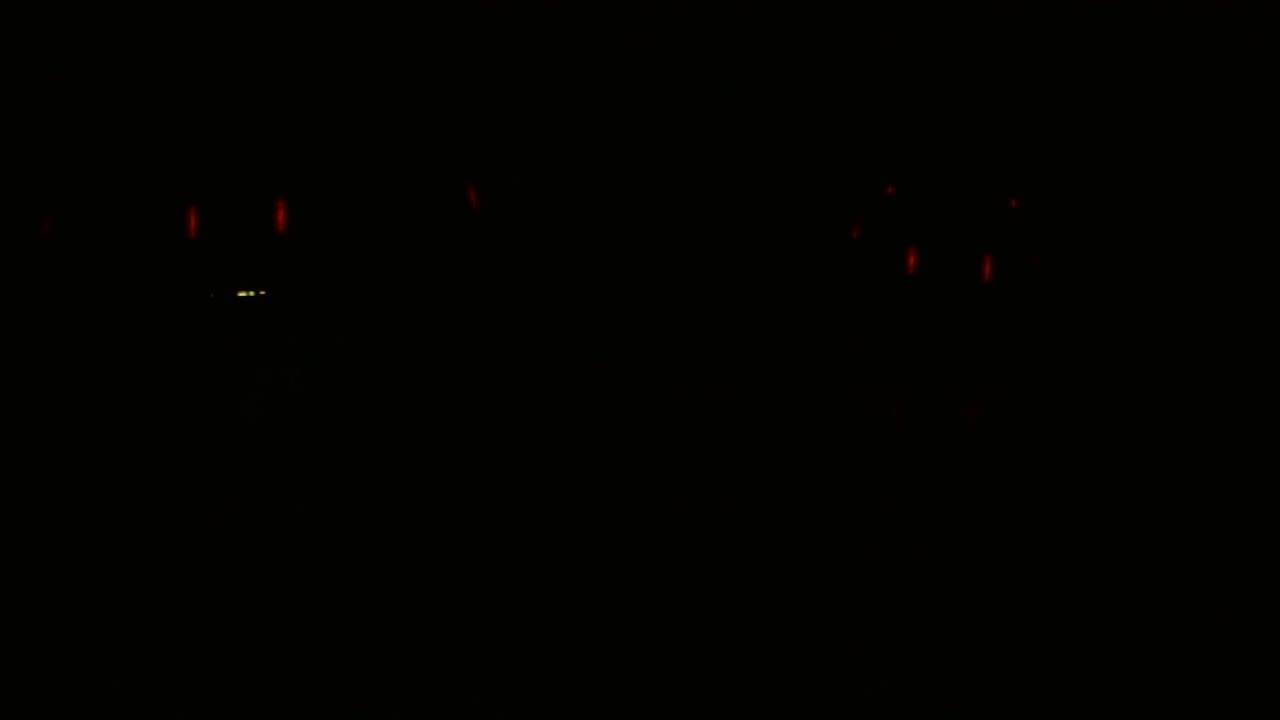pair1: (175, 188, 300, 255)
pair2: (892, 238, 1000, 300)
